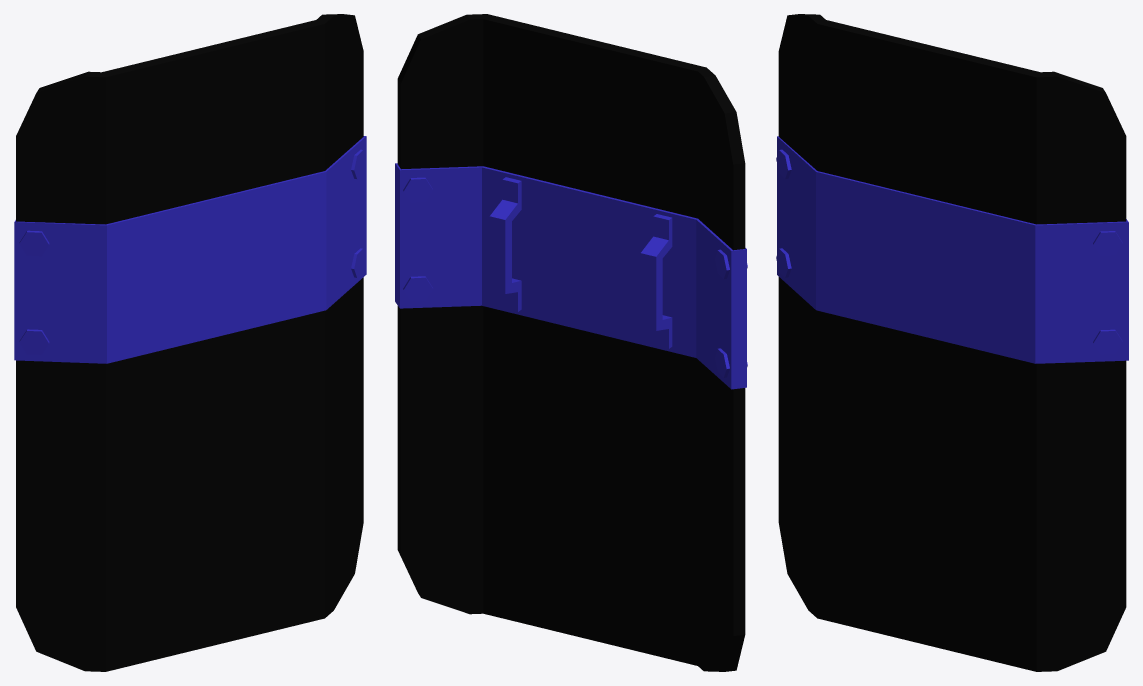
The model's file is SM_shield.fbx.
3 renders of one model, left to right at view 1: azimuth 30°, elevation 25°; view 2: azimuth 150°, elevation 25°; view 3: azimuth 330°, elevation 25°, orthographic.
Parts seen in each view (by area): view 1: shield; view 2: shield; view 3: shield.
Part boxes in pixels (box(x1,y1,x2,y2)): shield: box(14, 14, 366, 671); shield: box(395, 14, 747, 671); shield: box(776, 14, 1128, 671).
Size of the model in its own units: 65.03 by 105 by 10.59.
